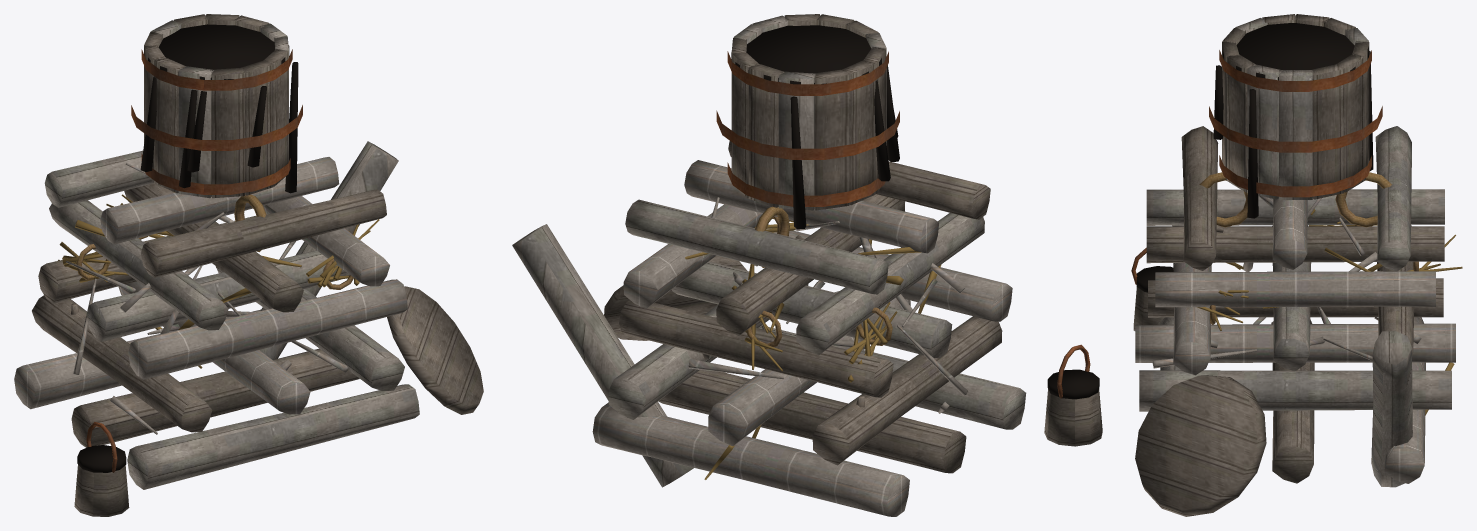
The model's file is signal_pyre.glb.
3 renders of one model, left to right at view 1: azimuth 30°, elevation 25°; view 2: azimuth 150°, elevation 25°; view 3: azimuth 270°, elevation 25°, orthographic. The views are drawn at different scales.
Parts seen in each view (by area): view 1: signal_pyre; view 2: signal_pyre; view 3: signal_pyre.
Boxes of the visible parts, <box> form: signal_pyre: <box>14,14,483,516</box>; signal_pyre: <box>512,14,1102,516</box>; signal_pyre: <box>1131,14,1462,516</box>.
Bounding box in the file's own units: 2.44 × 2.13 × 1.6.
4 materials, 4 textured.
